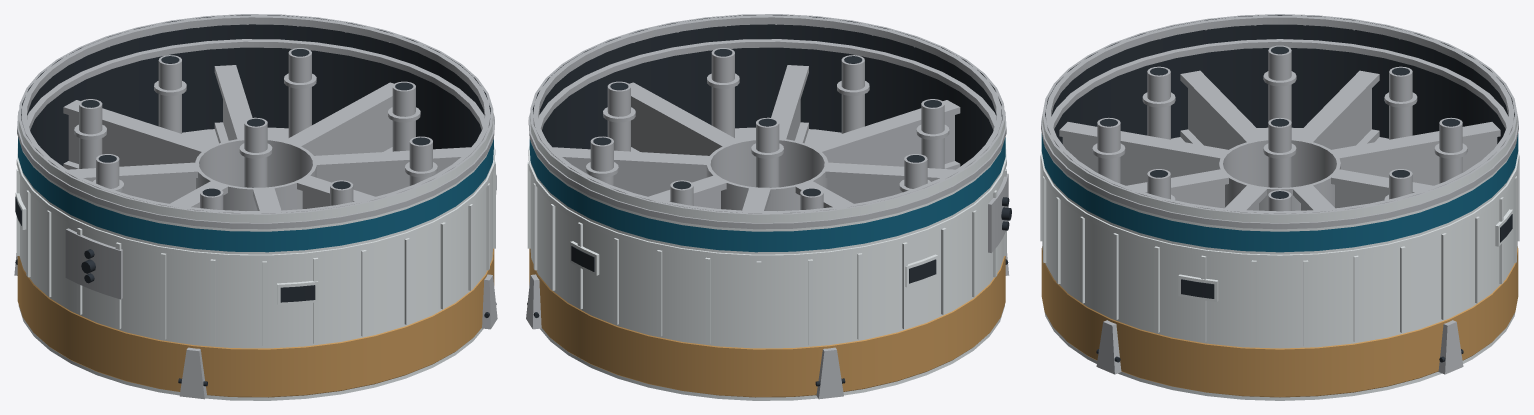
Rendered from mount_s1_9_d37.fbx.
3 views of the same model, side by side, from view 1: azimuth 30°, elevation 25°; view 2: azimuth 150°, elevation 25°; view 3: azimuth 270°, elevation 25° (orthographic).
Visible parts, largest first — view 1: mount_s1_9_d37_LOD0; view 2: mount_s1_9_d37_LOD0; view 3: mount_s1_9_d37_LOD0.
Part boxes in pixels (box(x1,y1,x2,y2)): mount_s1_9_d37_LOD0: box(14, 14, 497, 400); mount_s1_9_d37_LOD0: box(526, 14, 1011, 400); mount_s1_9_d37_LOD0: box(1040, 14, 1519, 400).
Size of what is drawn, in the model's own units: 3.73 by 1.6 by 3.73.
